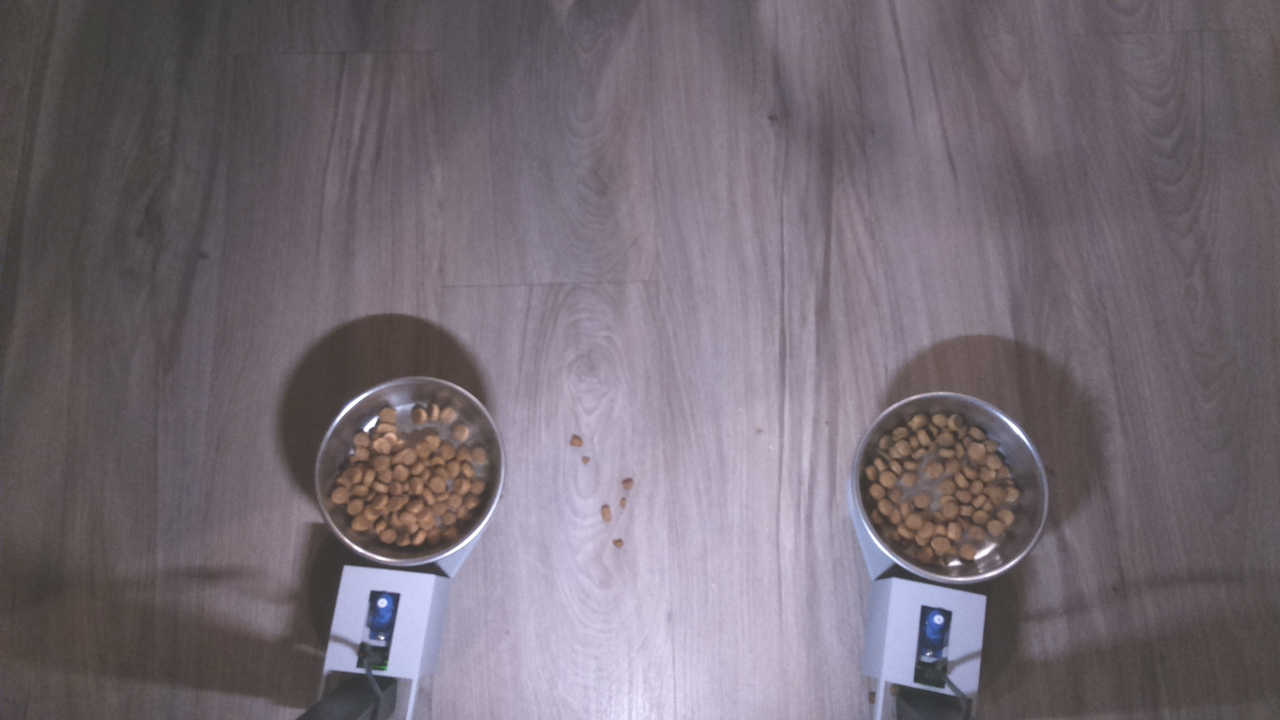open_bowl: (849, 389, 1052, 586), (314, 369, 507, 569)
